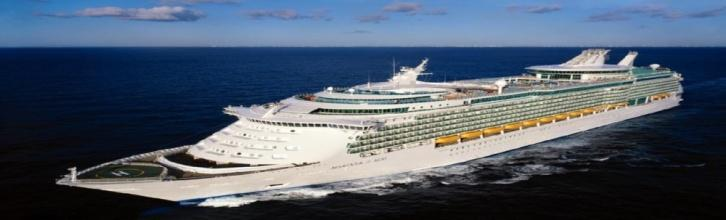youlun: (65, 42, 689, 195)
